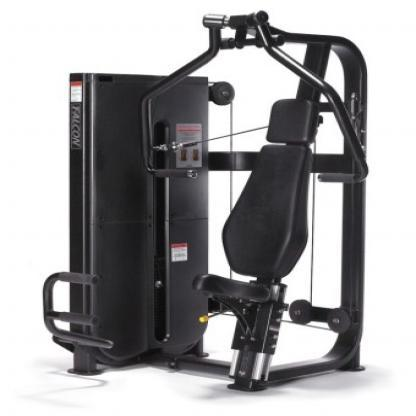Chest Press machine: (39, 10, 374, 398)
